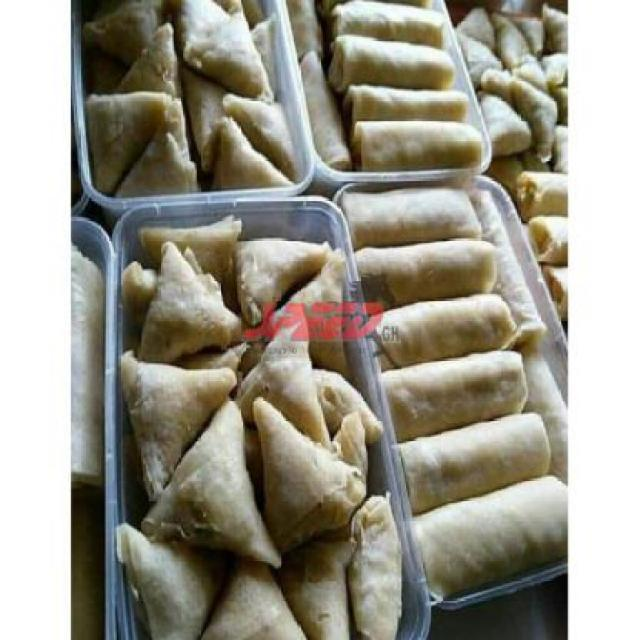samosa: (74, 201, 383, 639), (77, 2, 300, 195), (457, 8, 568, 168)
spring rolls: (345, 172, 566, 586), (71, 218, 104, 492)
